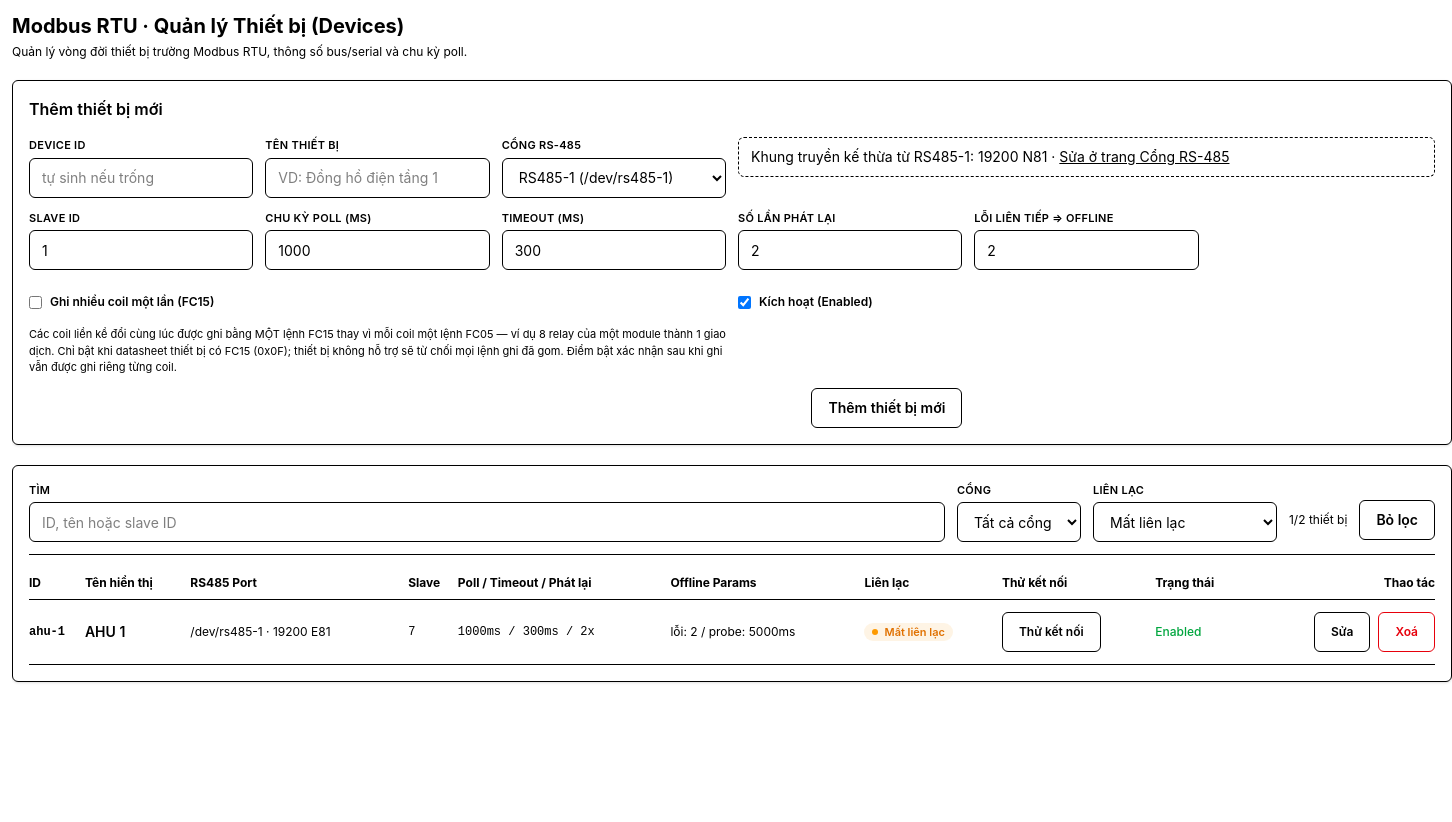
DevicesPage › bỏ lọc trả về danh sách đầy đủ
Check: the text "ahu-1" is shown, box [29,600,85,664]
Check: the text "meter-2" is not shown
Click the button "Bỏ lọc" at (1397, 520), box [1359,500,1435,540]
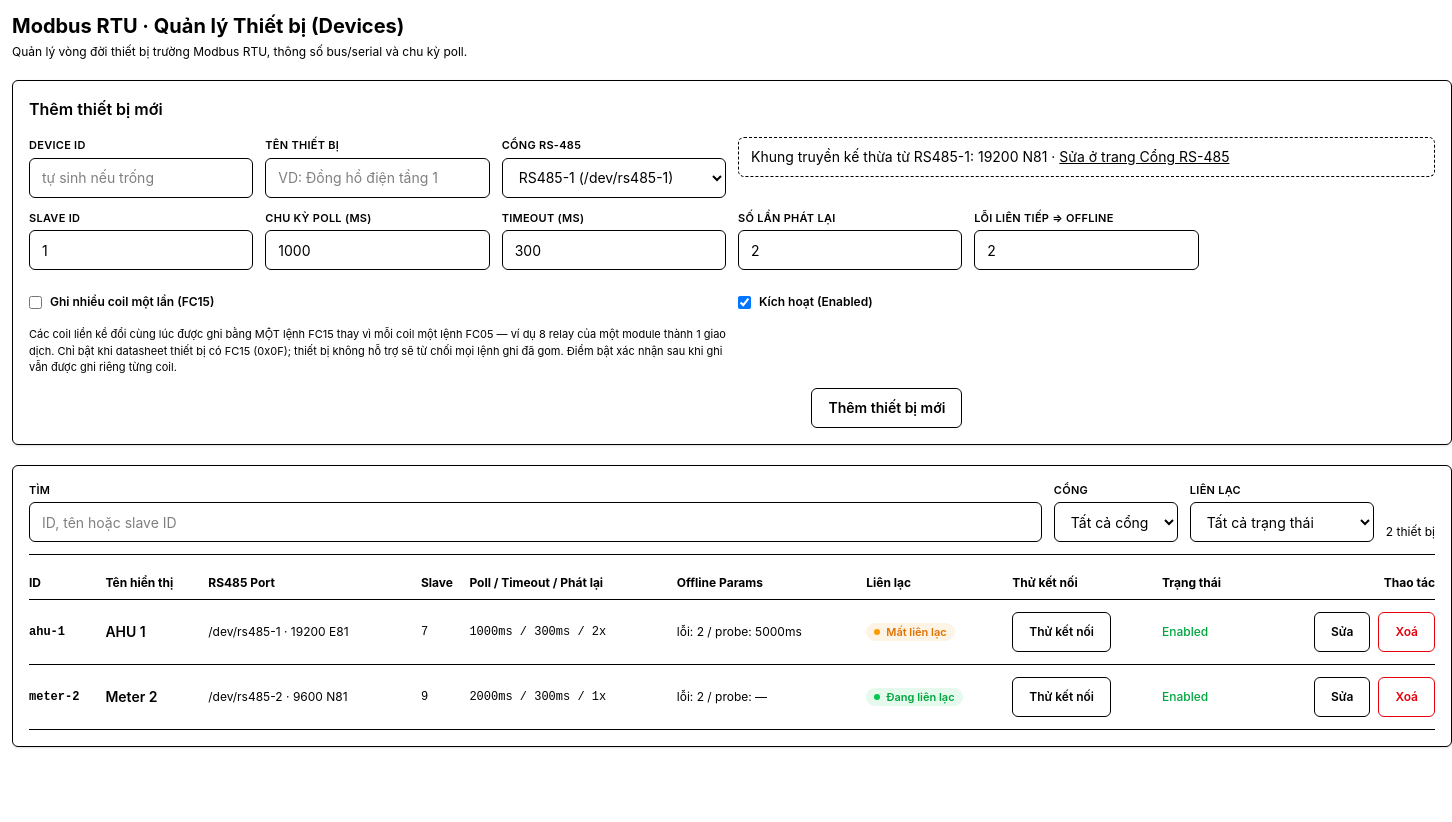
Check: the text "meter-2" is shown, box [29,664,105,730]
Check: the text with test id "device-count" reads "2 thiết bị", box [1386,524,1435,539]
